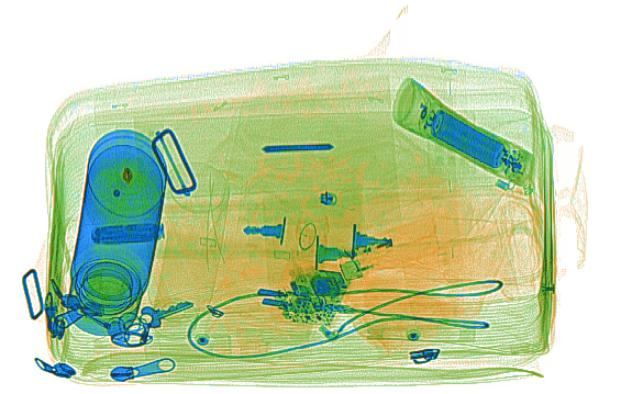battery: (428, 109, 507, 166)
knife: (91, 221, 164, 245)
lighter: (337, 209, 440, 284)
